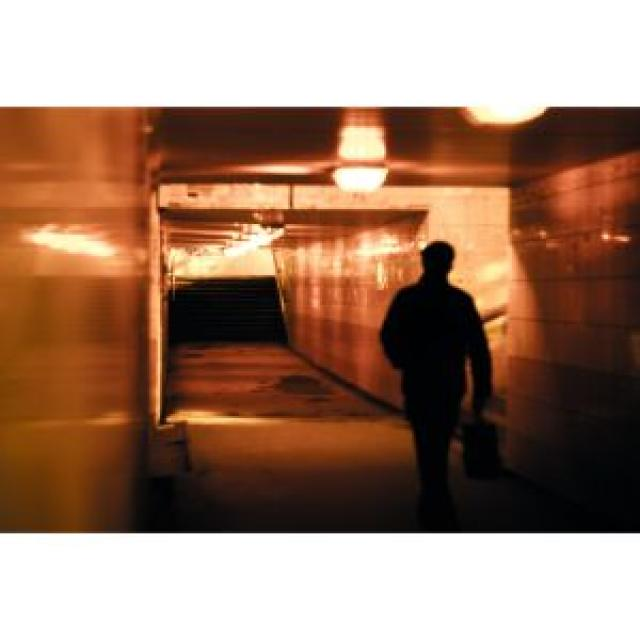nonfall: (363, 211, 527, 534)
